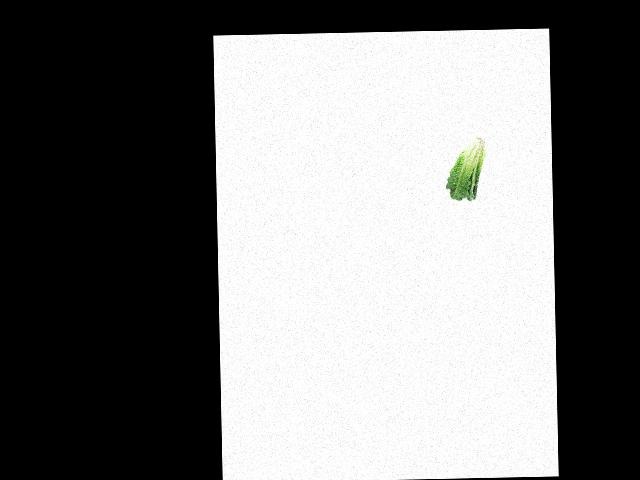lettuce: (446, 133, 488, 203)
